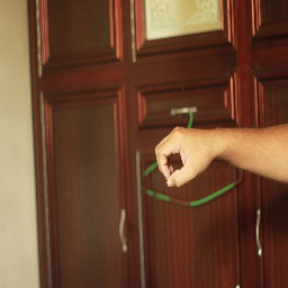O: (150, 111, 233, 191)
